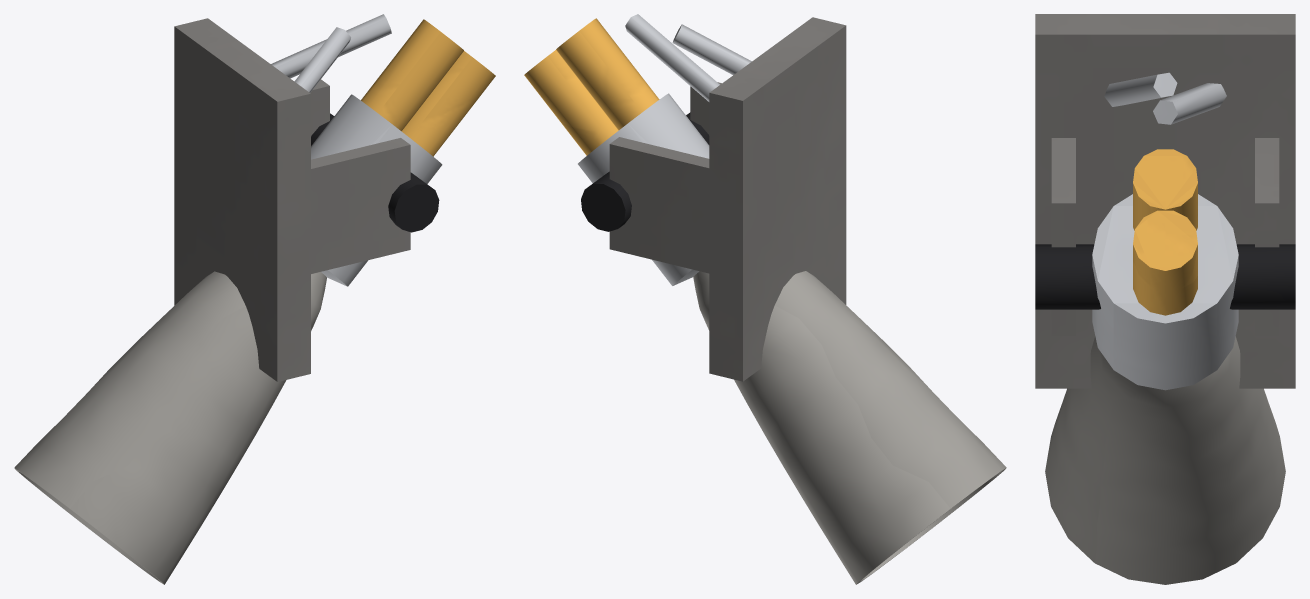
Rendered from prop17_vernier_swivel_pos.glb.
3 renders of one model, left to right at view 1: azimuth 30°, elevation 25°; view 2: azimuth 150°, elevation 25°; view 3: azimuth 270°, elevation 25°, orthographic. The views are drawn at different scales.
Parts seen in each view (by area): view 1: bracket, nozzle_bell, nozzle_valves, nozzle_chamber, feed_lines, swivel_axle; view 2: bracket, nozzle_bell, nozzle_valves, nozzle_chamber, feed_lines, swivel_axle; view 3: bracket, nozzle_bell, nozzle_chamber, nozzle_valves, swivel_axle, feed_lines.
Part boxes in pixels (x1,y1,x2,y2): bracket: [174, 18, 410, 381]; nozzle_bell: [14, 271, 326, 584]; nozzle_valves: [361, 19, 495, 156]; nozzle_chamber: [311, 94, 442, 286]; feed_lines: [271, 14, 391, 92]; swivel_axle: [311, 113, 439, 232]; bracket: [609, 17, 846, 381]; nozzle_bell: [693, 271, 1006, 584]; nozzle_valves: [524, 18, 659, 155]; nozzle_chamber: [578, 93, 709, 285]; feed_lines: [625, 14, 751, 101]; swivel_axle: [581, 112, 709, 231]; bracket: [1035, 14, 1295, 388]; nozzle_bell: [1045, 336, 1285, 584]; nozzle_chamber: [1092, 194, 1238, 390]; nozzle_valves: [1133, 149, 1197, 315]; swivel_axle: [1035, 244, 1295, 309]; feed_lines: [1104, 72, 1226, 124].
Size of the model in its own units: 0.4129 by 0.4274 by 0.16.
Materials: 5 (4 with a texture image).
